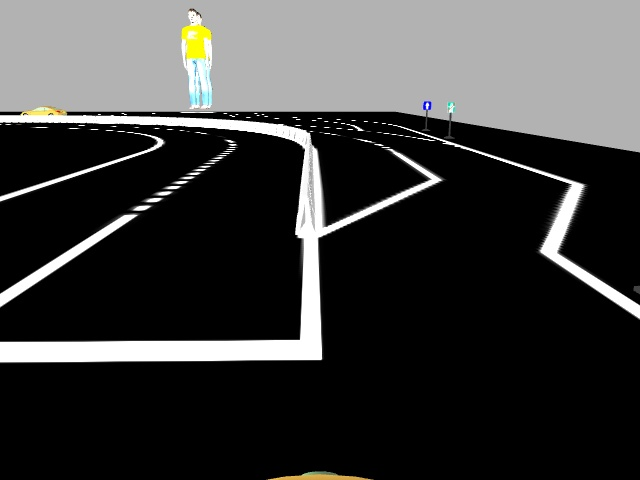HighwayExit: (447, 100, 455, 113)
OneWay: (422, 101, 429, 109)
